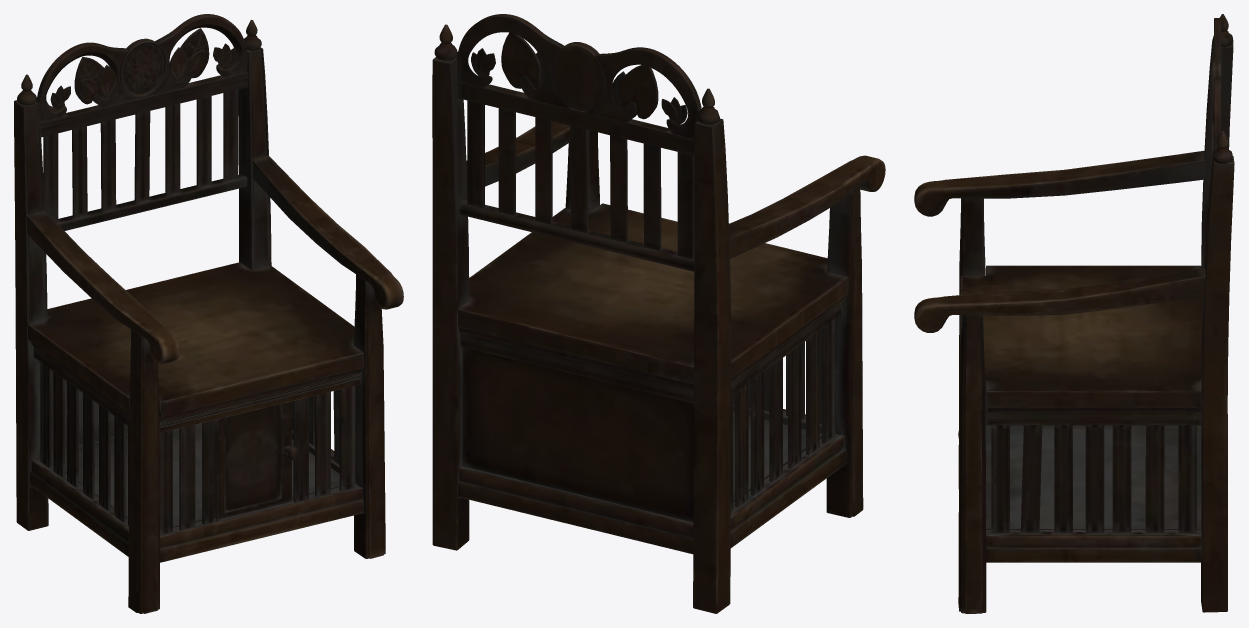
The model's file is gallinera_chair.glb.
The picture shows the model from 3 angles, left to right: view 1: azimuth 30°, elevation 25°; view 2: azimuth 150°, elevation 25°; view 3: azimuth 270°, elevation 25°; orthographic projection. The views are drawn at different scales.
Visible parts, largest first — view 1: gallinera_chair; view 2: gallinera_chair; view 3: gallinera_chair.
Boxes of the visible parts, x1,y1,x2,y2 form: gallinera_chair: (14, 14, 403, 613); gallinera_chair: (432, 14, 885, 613); gallinera_chair: (914, 14, 1234, 613).
Size of the model in its own units: 0.5808 by 1.03 by 0.6039.
1 material, 1 textured.
